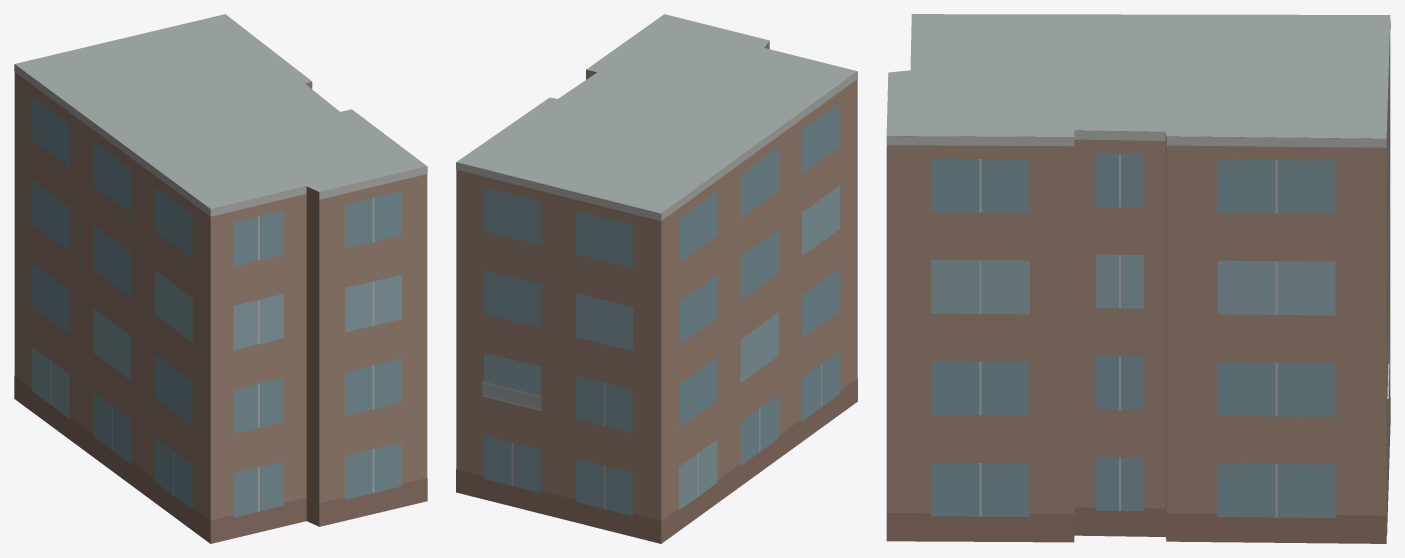
File: survey-upis-33031126.glb
3 renders of one model, left to right at view 1: azimuth 30°, elevation 25°; view 2: azimuth 150°, elevation 25°; view 3: azimuth 270°, elevation 25°, orthographic. The views are drawn at different scales.
Visible parts, largest first — view 1: survey-upis-33031126.tmp; view 2: survey-upis-33031126.tmp; view 3: survey-upis-33031126.tmp.
Boxes of the visible parts, <box> form: survey-upis-33031126.tmp: <box>14,14,427,543</box>; survey-upis-33031126.tmp: <box>456,14,857,543</box>; survey-upis-33031126.tmp: <box>886,14,1390,543</box>.
Size of the model in its own units: 7.06 by 10.7 by 12.07.
